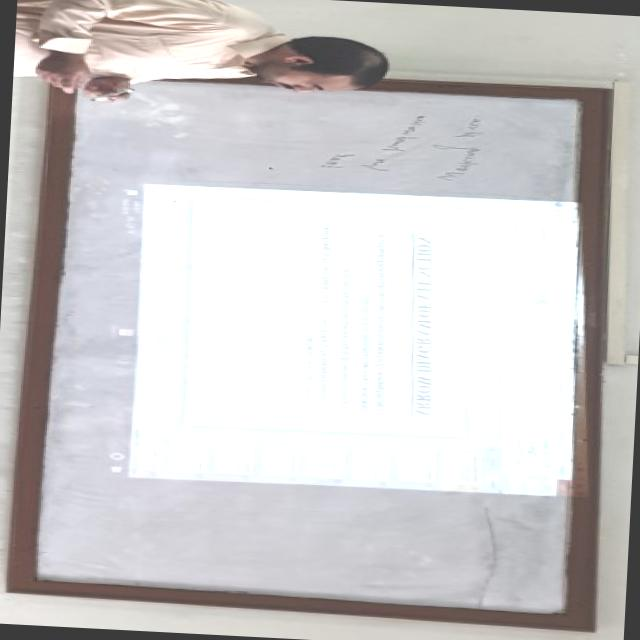Instructor: (12, 0, 407, 102)
Slide: (102, 183, 592, 501)
White-board: (28, 67, 590, 627)
